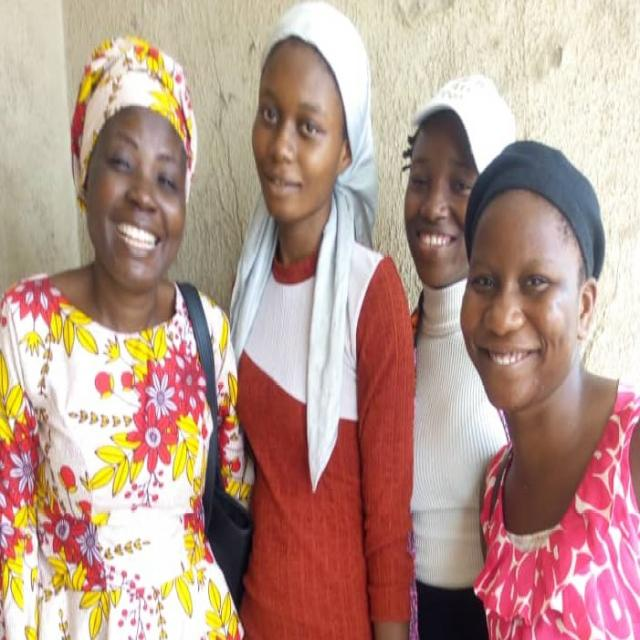happy: (464, 205, 587, 416), (80, 98, 193, 297), (252, 33, 353, 231), (403, 94, 472, 299)
